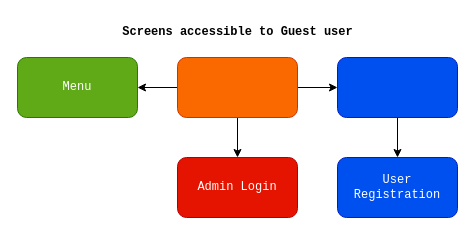
Some shapes in this 475 by 235 pixel diagram are drawn without their labels. Each missing label, with the centre of its shape:
"Home Screen" belongs at (x=237, y=87).
"User Log in" belongs at (x=397, y=87).
